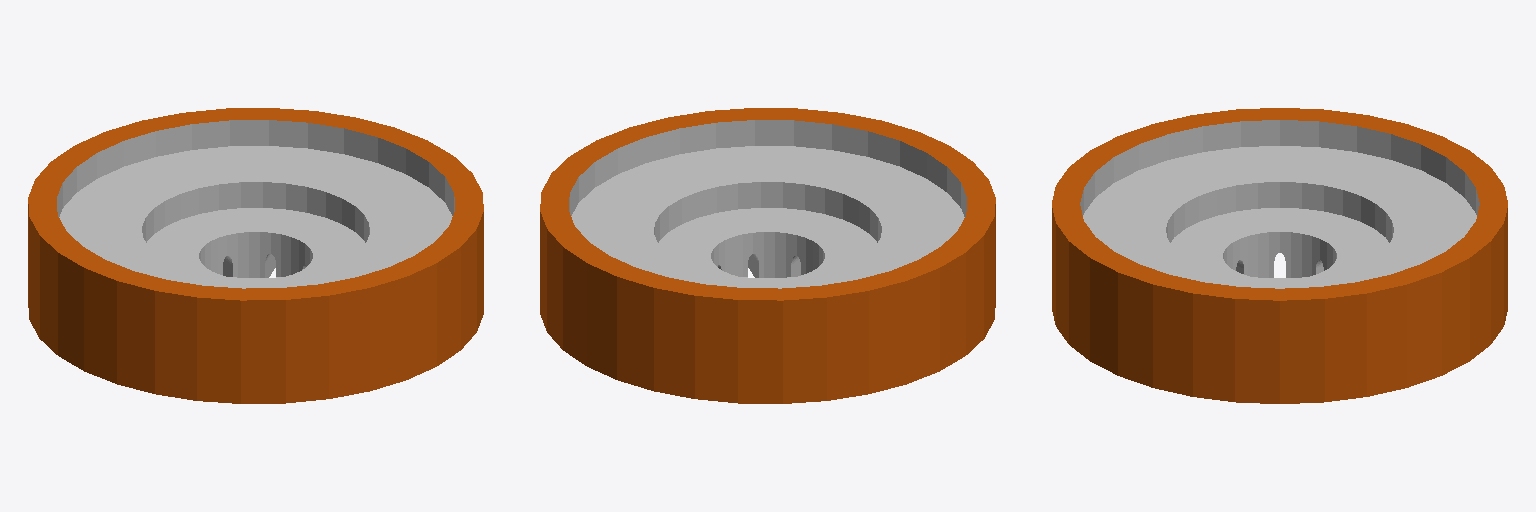
The model's file is Colosseum.obj.
The picture shows the model from 3 angles: view 1: azimuth 30°, elevation 25°; view 2: azimuth 150°, elevation 25°; view 3: azimuth 270°, elevation 25°; orthographic projection.
Parts seen in each view (by area): view 1: 円柱; view 2: 円柱; view 3: 円柱.
Part boxes in pixels (left/top/right/bottom): 円柱: left=28, top=108, right=483, bottom=403; 円柱: left=540, top=108, right=995, bottom=403; 円柱: left=1052, top=108, right=1507, bottom=403.
Bounding box in the file's own units: 8 × 2 × 8.